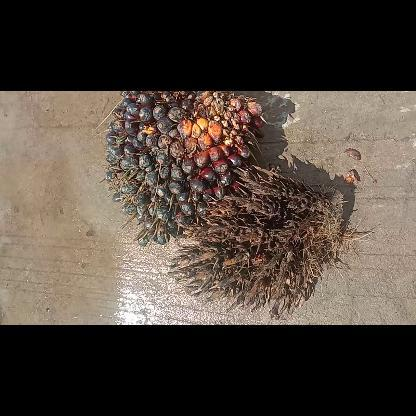Janjang kosong: (168, 165, 348, 324)
TBS mentah: (101, 91, 267, 253)
